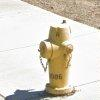a fire hydrant: (41, 26, 72, 94)
